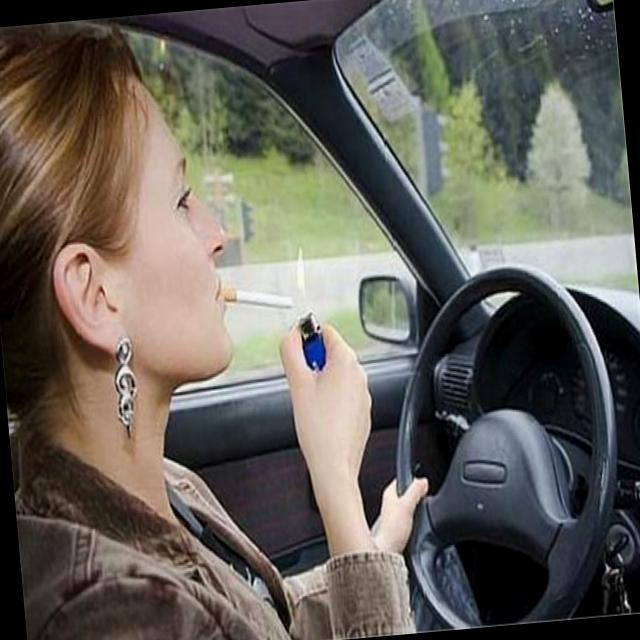smoke: (192, 250, 300, 340)
